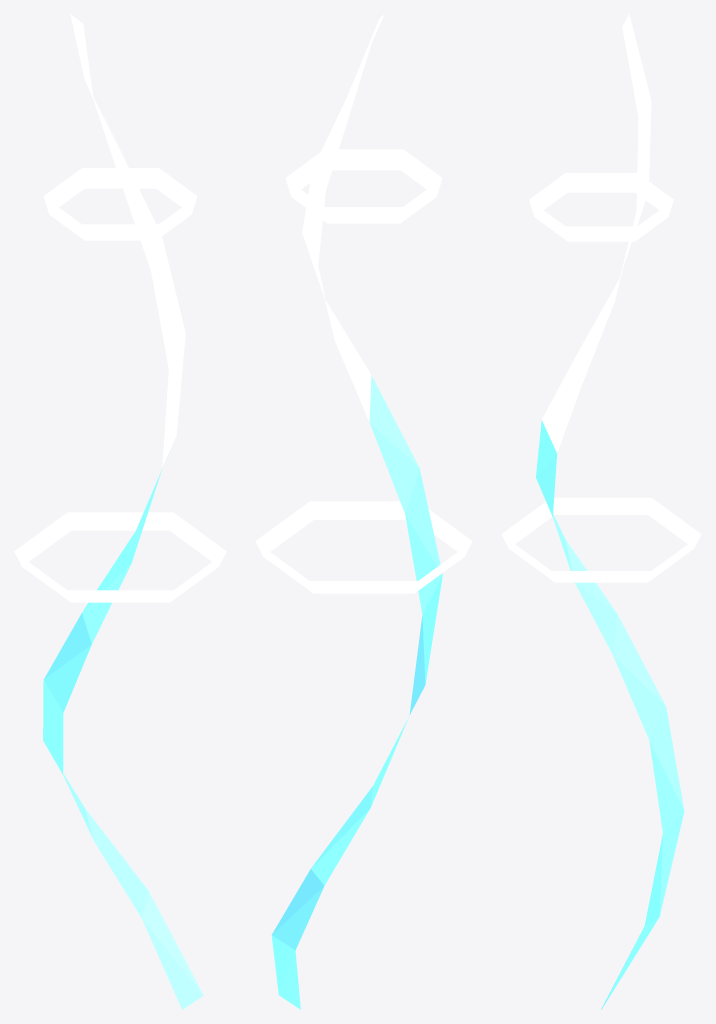
Rendered from vfx_arrow_trail.glb.
The picture shows the model from 3 angles, left to right: view 1: azimuth 30°, elevation 25°; view 2: azimuth 150°, elevation 25°; view 3: azimuth 270°, elevation 25°; orthographic projection. The views are drawn at different scales.
Parts seen in each view (by area): view 1: VFX_Arrow_Trail; view 2: VFX_Arrow_Trail; view 3: VFX_Arrow_Trail.
Part boxes in pixels (box(x1,y1,x2,y2)): VFX_Arrow_Trail: box(14, 14, 226, 1009); VFX_Arrow_Trail: box(255, 14, 472, 1009); VFX_Arrow_Trail: box(501, 14, 701, 1009).
Size of the model in its own units: 0.1109 by 0.656 by 0.1253.
